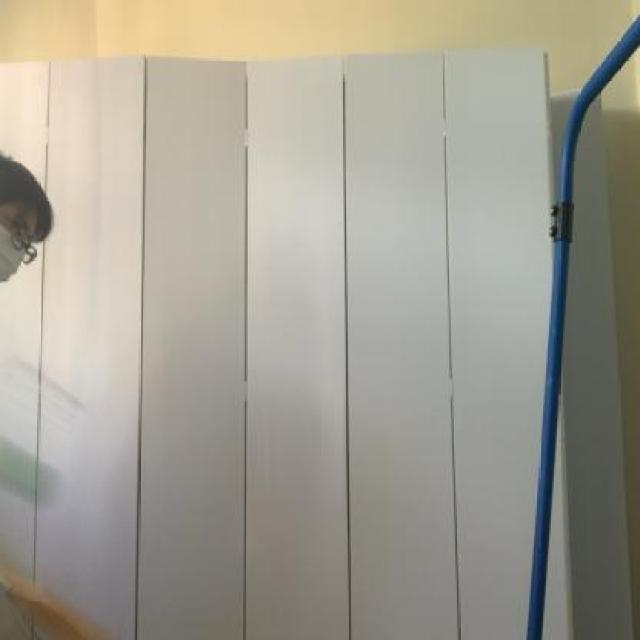baseball: (0, 423, 71, 512)
